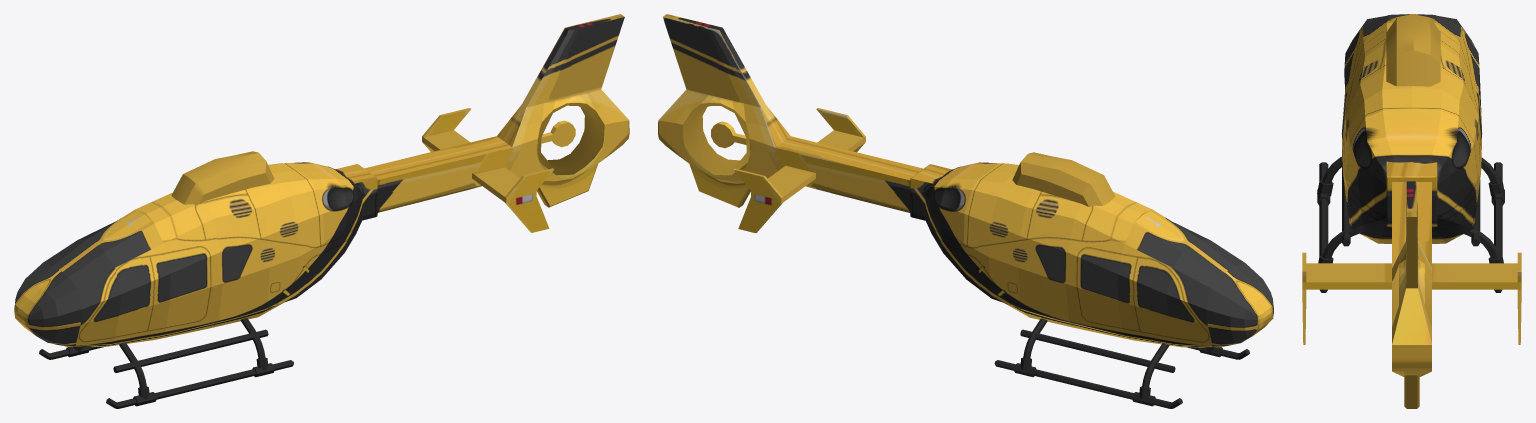
File: HelicopterBody.fbx
The picture shows the model from 3 angles, left to right: view 1: azimuth 30°, elevation 25°; view 2: azimuth 150°, elevation 25°; view 3: azimuth 270°, elevation 25°; orthographic projection. The views are drawn at different scales.
Visible parts, largest first — view 1: Cube.011; view 2: Cube.011; view 3: Cube.011.
Boxes of the visible parts, x1,y1,x2,y2 form: Cube.011: (14,14,629,408); Cube.011: (658,14,1273,408); Cube.011: (1302,14,1521,408).
Bounding box in the file's own units: 120 × 45.15 × 29.01.
Materials: 1 (1 with a texture image).
